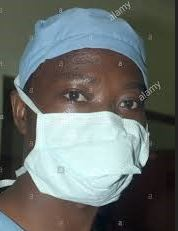with_facemask: (37, 88, 142, 202)
